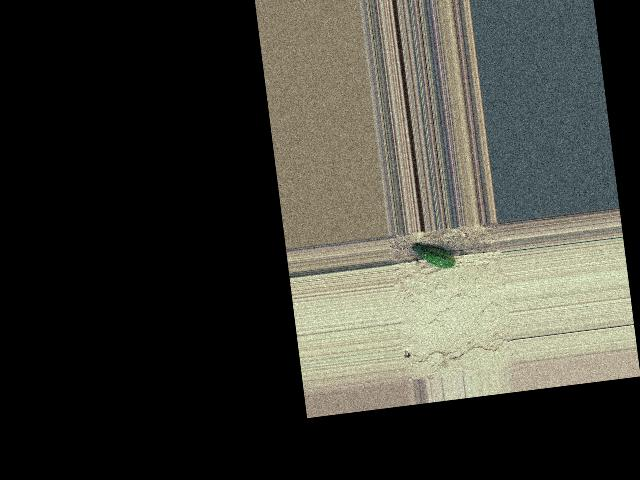cucumber: (413, 239, 456, 272)
